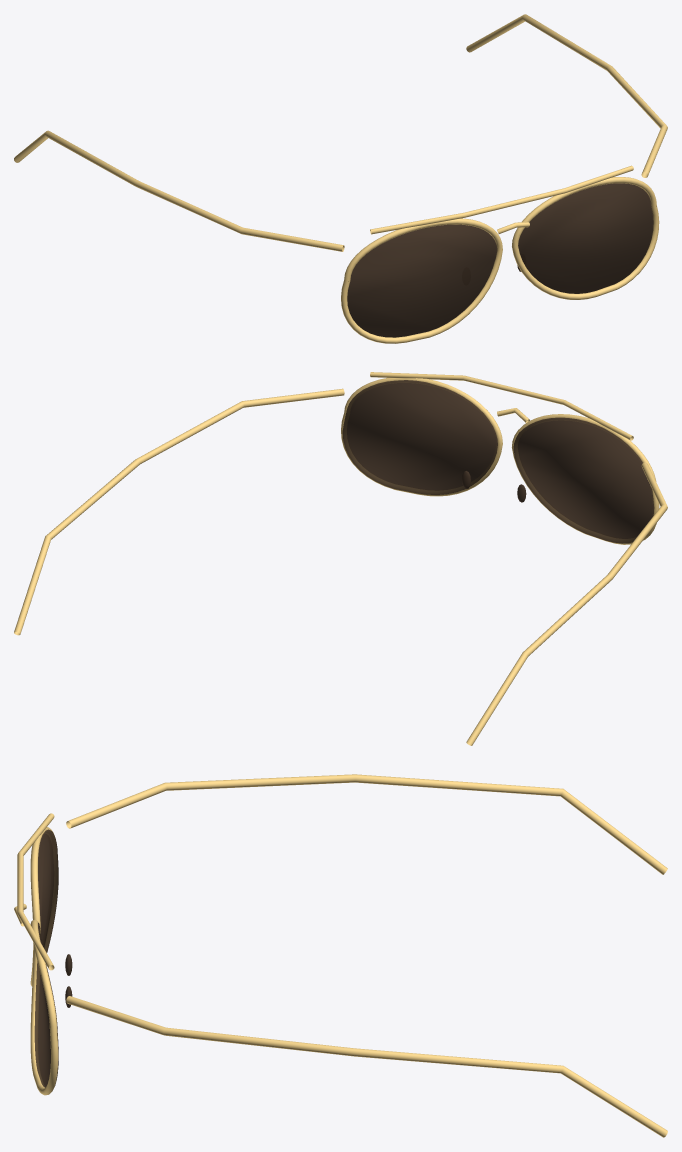
Rendered from aviators.glb.
3 views of the same model, one above another, from view 1: azimuth 30°, elevation 25°; view 2: azimuth 150°, elevation 25°; view 3: azimuth 270°, elevation 25° (orthographic). The views are drawn at different scales.
Parts seen in each view (by area): view 1: Aviators; view 2: Aviators; view 3: Aviators.
Part boxes in pixels (left/top/right/bottom): Aviators: left=14, top=14, right=667, bottom=343; Aviators: left=14, top=372, right=667, bottom=745; Aviators: left=14, top=774, right=667, bottom=1137.
Bounding box in the file's own units: 0.1924 × 0.0467 × 0.1896.
